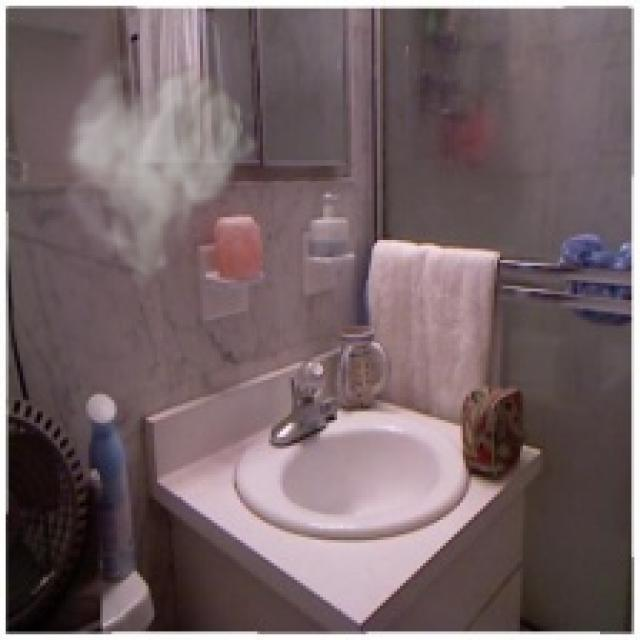Smoke: (57, 40, 260, 297)
